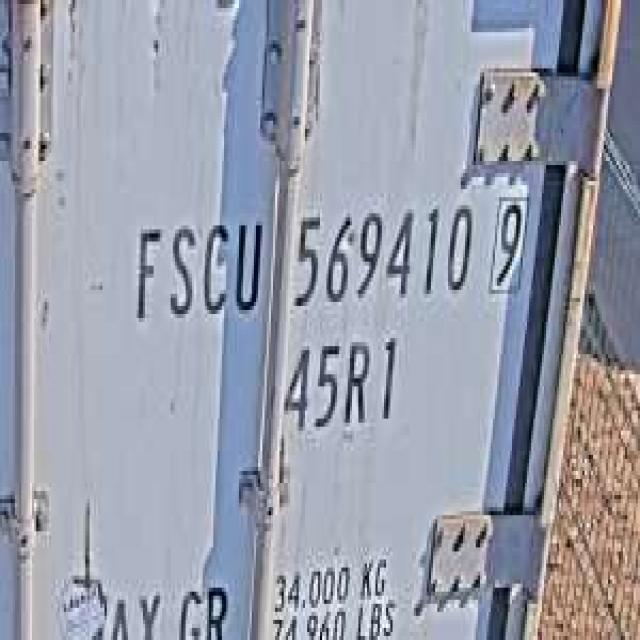dv: (484, 181, 534, 302)
owner: (122, 201, 264, 334)
serial: (286, 185, 476, 310)
size: (278, 326, 406, 439)
